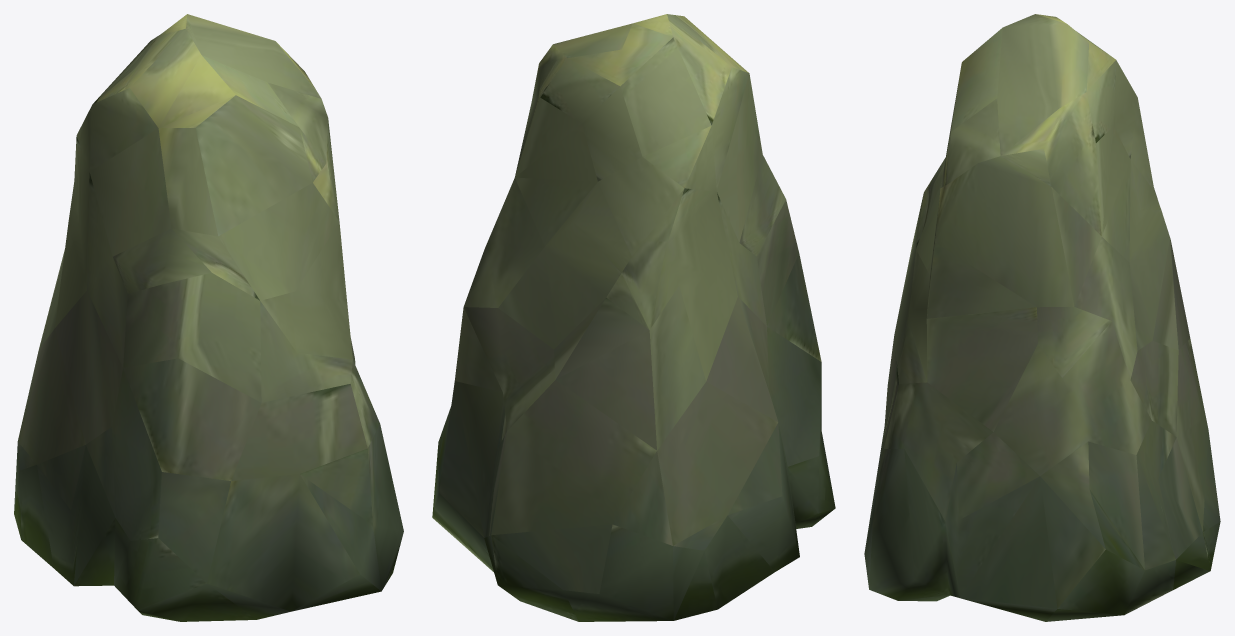
File: s-pierre-terre-semis.glb
3 renders of one model, left to right at view 1: azimuth 30°, elevation 25°; view 2: azimuth 150°, elevation 25°; view 3: azimuth 270°, elevation 25°, orthographic.
Parts seen in each view (by area): view 1: s-pierre-eau-semis; view 2: s-pierre-eau-semis; view 3: s-pierre-eau-semis.
Part boxes in pixels (box(x1,y1,x2,y2)): s-pierre-eau-semis: box(14, 14, 403, 621); s-pierre-eau-semis: box(432, 14, 835, 621); s-pierre-eau-semis: box(864, 14, 1220, 621).
Size of the model in its own units: 1.19 by 1.98 by 1.17.
1 material, 1 textured.
